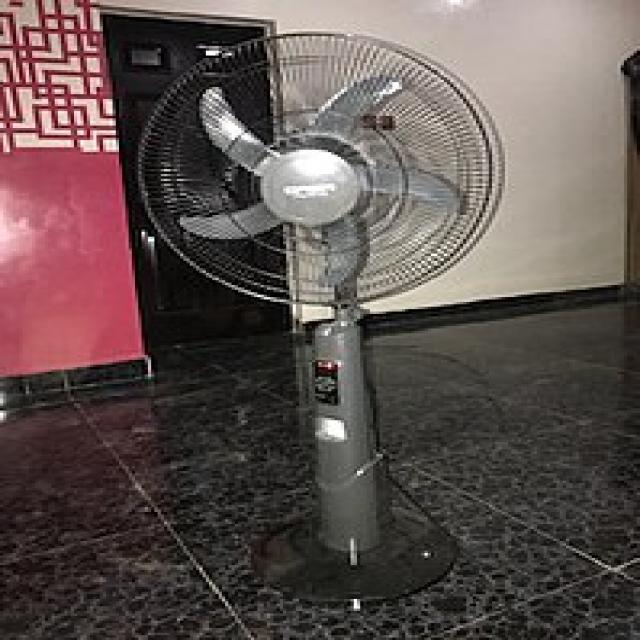fan: (135, 30, 502, 615)
